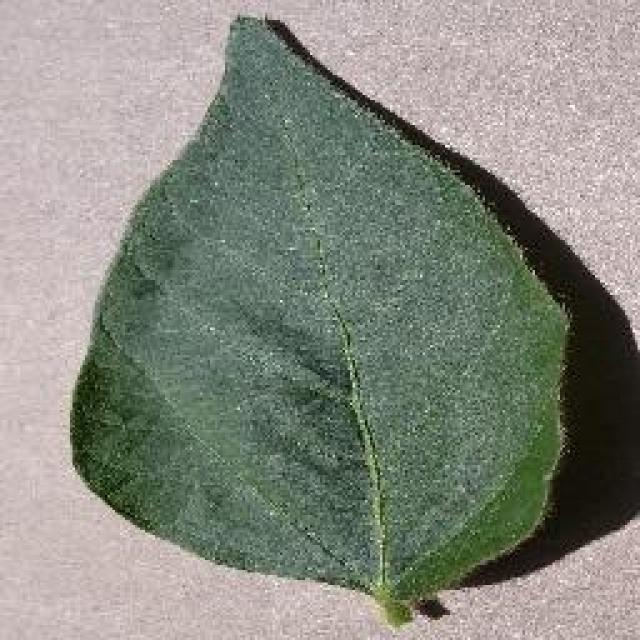Soy_healthy: (82, 59, 552, 542)
